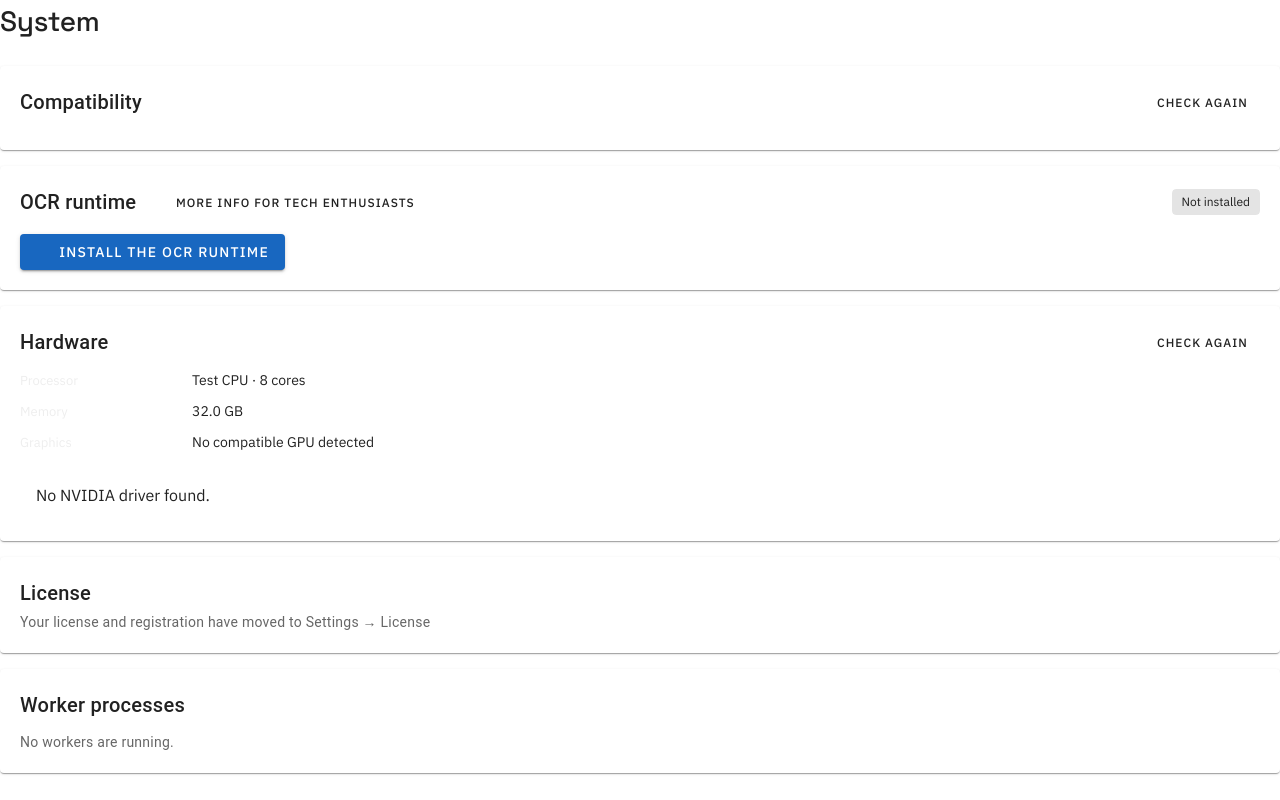
Scenario: SystemView runtime install › shows the build, both sizes and the destination before asking
Click the button "Install the OCR runtime" at (153, 252), box [20,234,285,270]
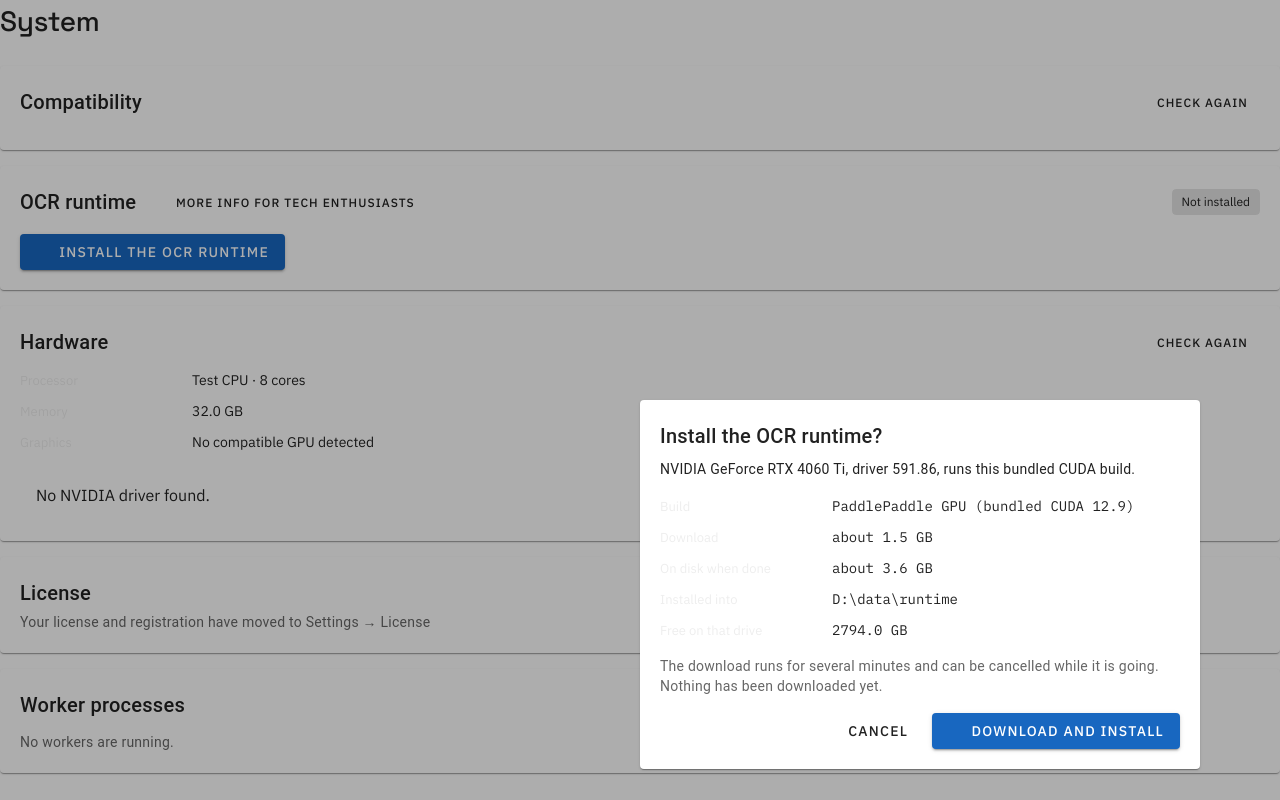
Result: the text "PaddlePaddle GPU (bundled CUDA 12.9)" is shown at [832,496,1180,517]
Result: the text "1.5 GB" is shown at [832,528,933,546]
Result: the text "3.6 GB" is shown at [832,559,933,577]
